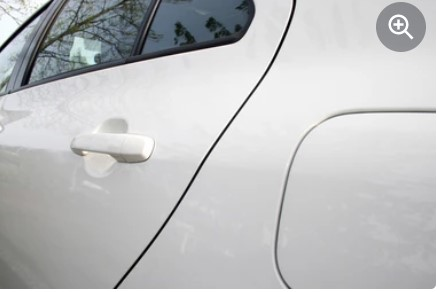closed: (269, 101, 437, 290)
